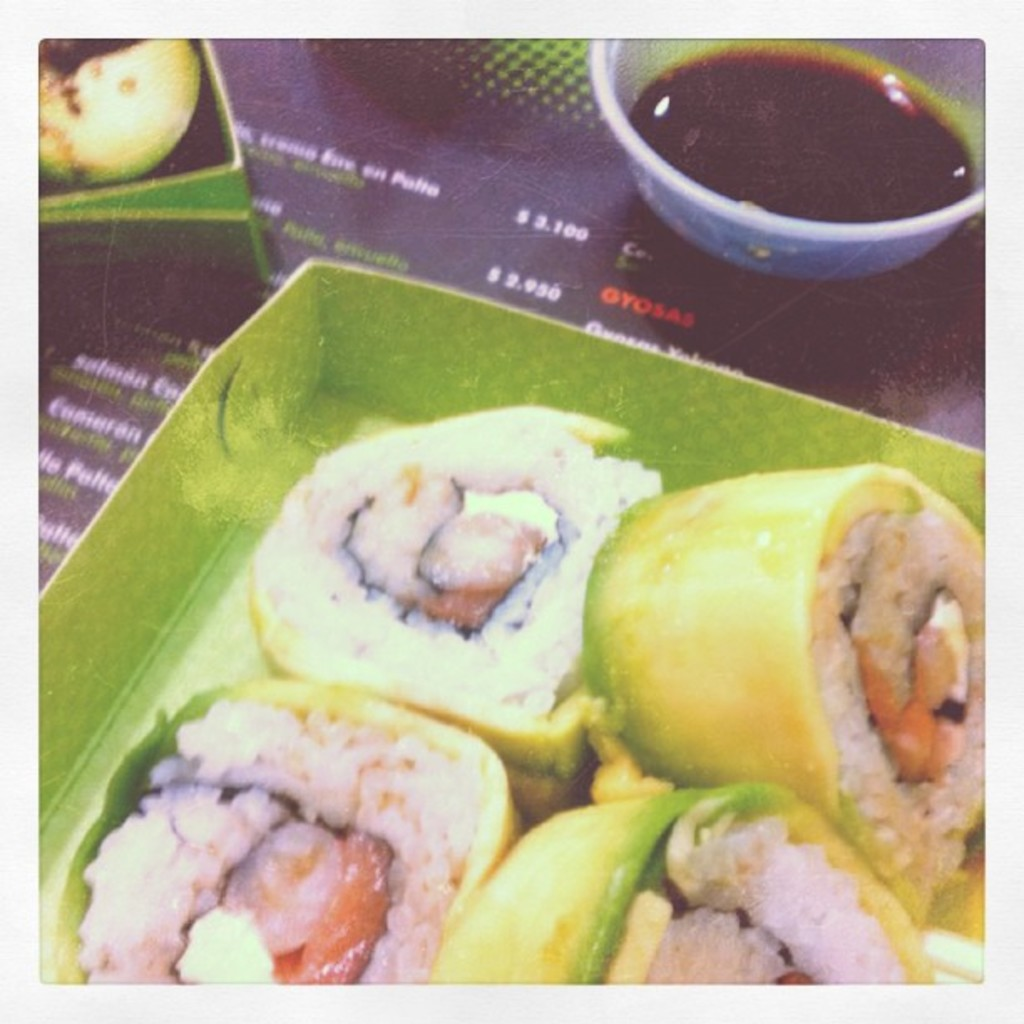sushi: (584, 463, 989, 919), (251, 403, 669, 822), (80, 696, 545, 984), (443, 775, 937, 997)
